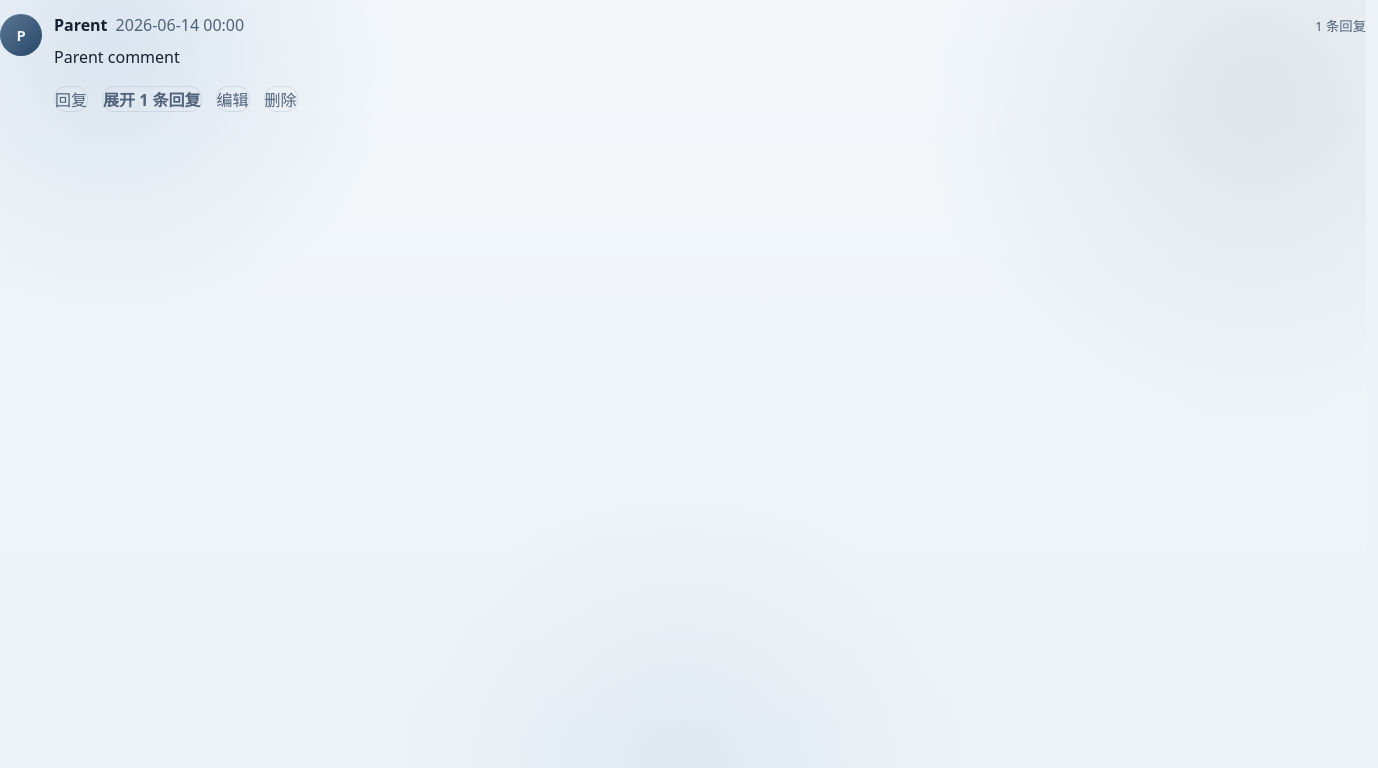
CommunityCommentThread › reveals replies after expanding the thread
Click the button "展开 1 条回复" at {"x": 152, "y": 98}, box top-left (102, 86), bottom-right (202, 112)
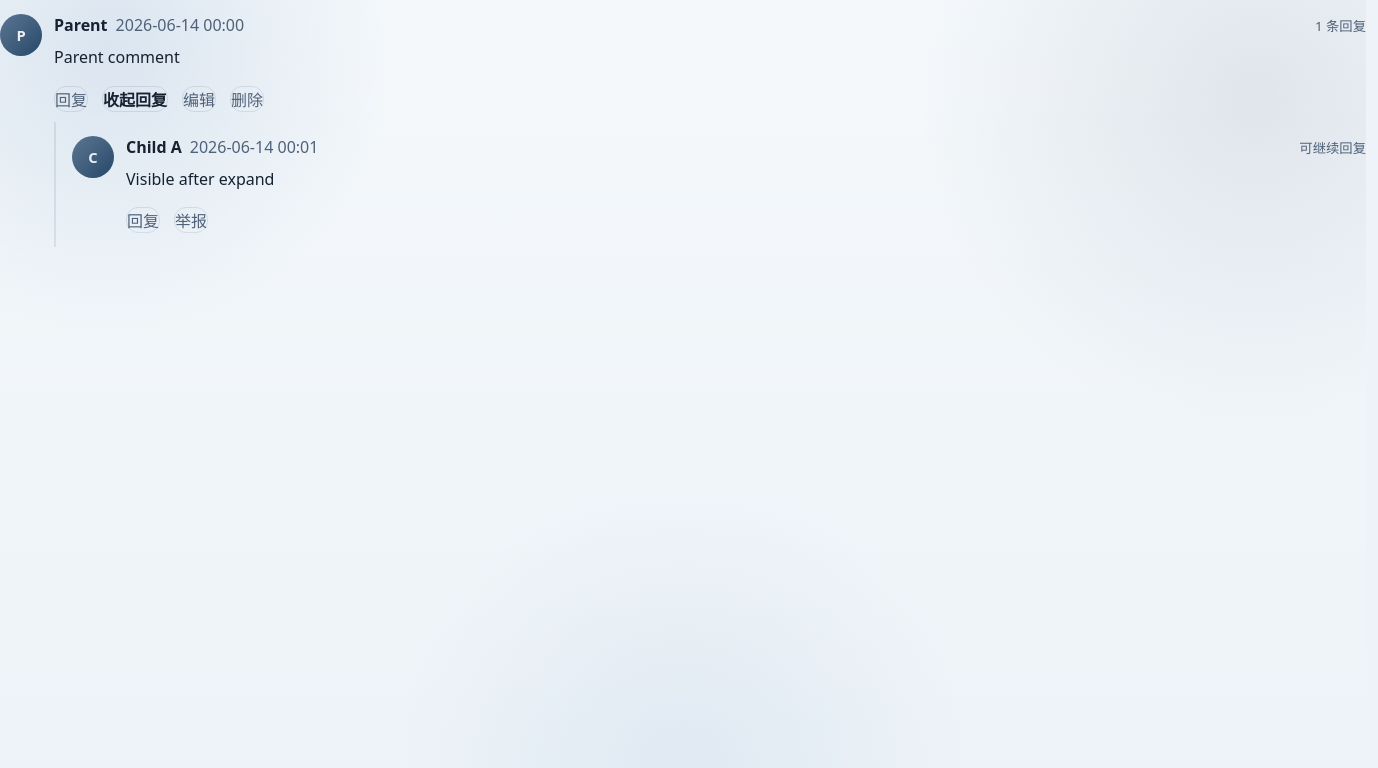
Now the button "收起回复" is shown, box top-left (102, 86), bottom-right (168, 112)
Now the text "Visible after expand" is shown, box top-left (126, 168), bottom-right (274, 190)
